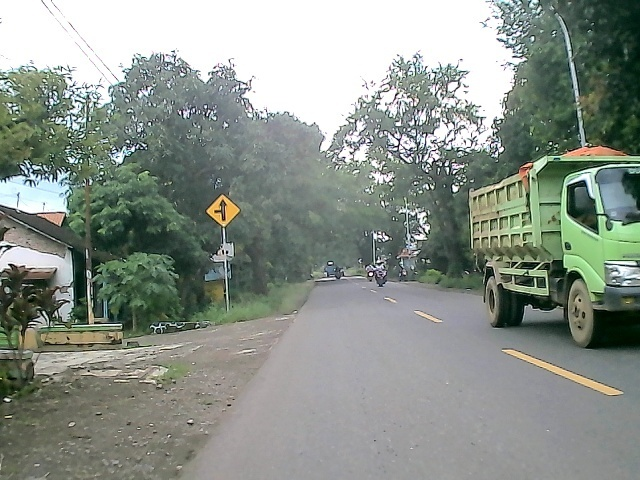Simpang kiri dengan prioritas: (205, 193, 242, 229)
